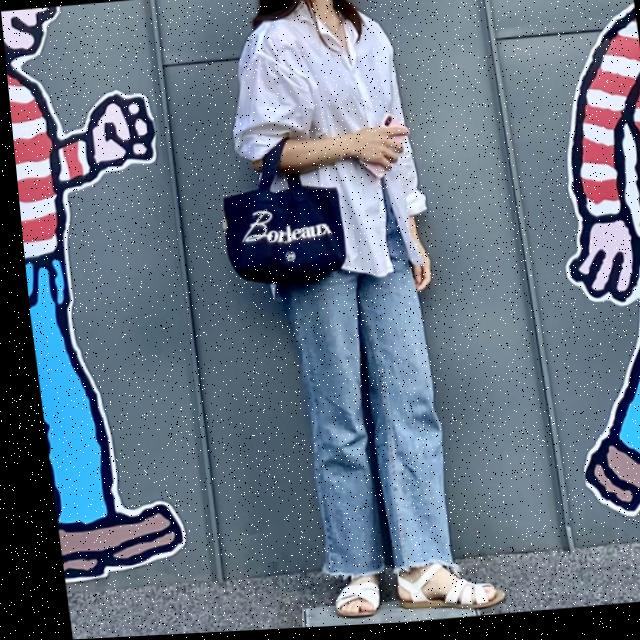ecobag: (183, 117, 358, 303)
